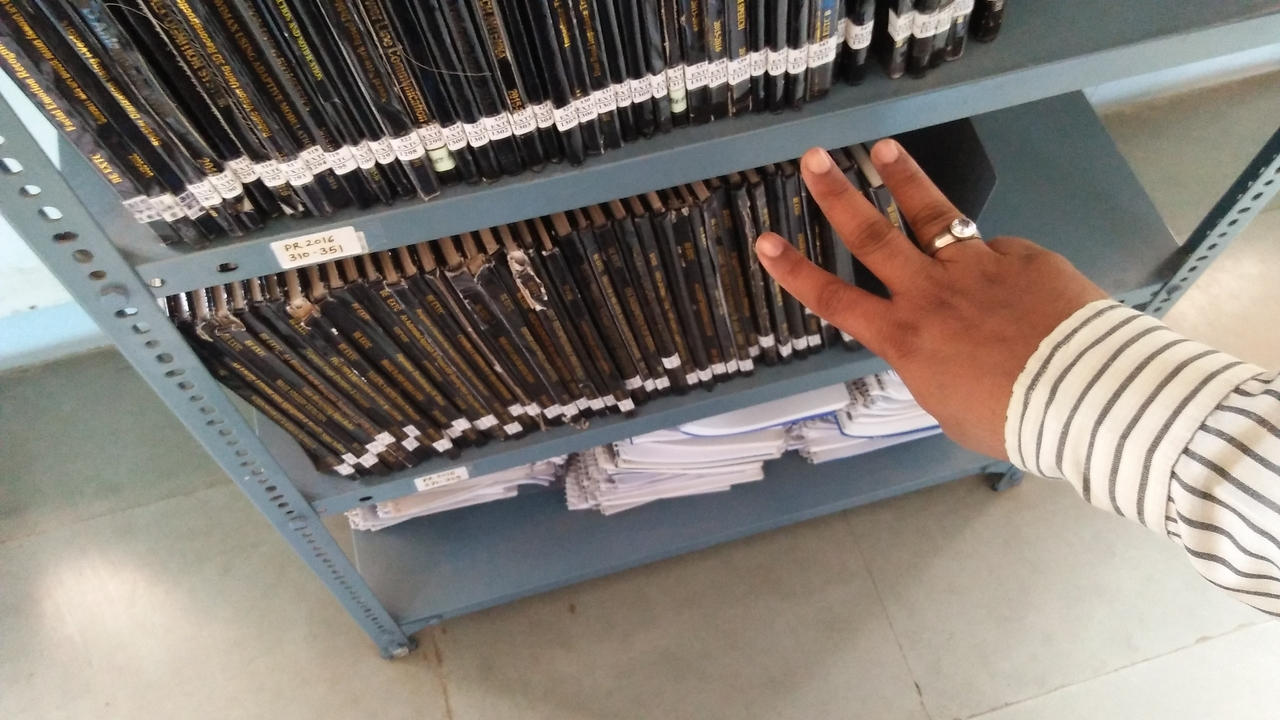fingertip: (744, 218, 806, 274), (786, 134, 848, 182), (859, 134, 916, 172)
